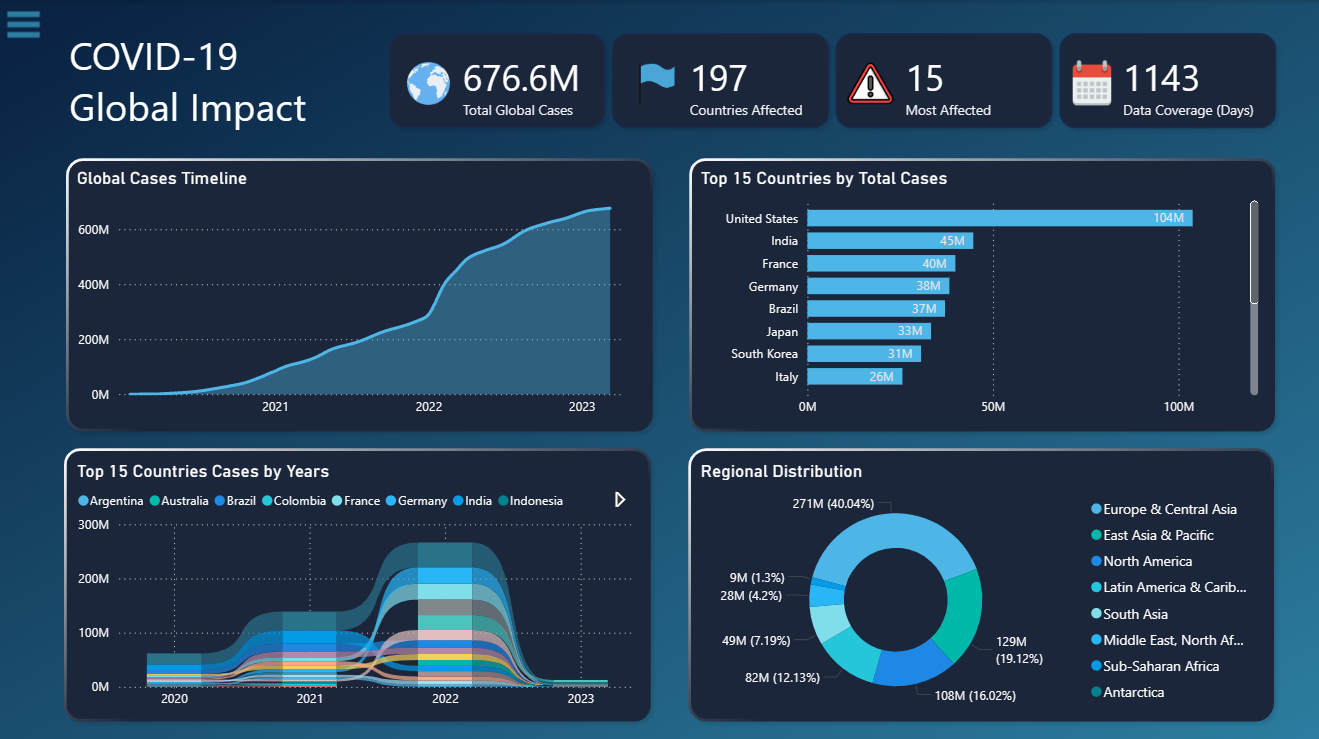

The dashboard page shown, as its layout file describes it:
{"tool":"powerbi","page":{"name":"Home","canvas":[1280,720],"ordinal":0},"visuals":[{"type":"lineChart","title":"Global Cases Timeline","fields":{"Category":["DimDate.Date"],"Y":["_Measures.Cumulative Cases"]},"box":[70.2,163.1,550.3,249.9],"z":0},{"type":"textbox","box":[63.1,22.7,255,109.8],"z":1000},{"type":"cardVisual","fields":{"Data":["_Measures.Daily New Cases","_Measures.Countries Affected","_Measures.High-Impact Countries","_Measures.Data Coverage"]},"box":[378.7,34.1,857,89.6],"z":2000},{"type":"clusteredBarChart","title":"Top 15 Countries by Total Cases","fields":{"Category":["DimCountry.Country"],"Y":["_Measures.Daily New Cases"]},"box":[675.3,163.1,550.3,249.9],"z":3000},{"type":"donutChart","title":"Regional Distribution","fields":{"Category":["DimCountry.Region"],"Y":["_Measures.Total Cases by Region"]},"box":[675.3,446.8,550.3,249.9],"z":4000},{"type":"ribbonChart","title":"Top 15 Countries Cases by Years","fields":{"Series":["DimCountry.Country"],"Category":["DimDate.Year"],"Y":["_Measures.Daily New Cases"]},"box":[70.2,447.1,550.3,249.9],"z":5000},{"type":"actionButton","box":[0,0,50.5,48],"z":6000}]}

Visuals, with their boxes in screenshot pixels (x1, y1, x2, y2), scaled from the page's 1280x720 canvas onto the 1319x739 screenshot:
"Global Cases Timeline" lineChart: select_region(72, 167, 639, 424)
textbox: select_region(65, 23, 328, 136)
cardVisual - _Measures.Daily New Cases x _Measures.Countries Affected: select_region(390, 35, 1273, 127)
"Top 15 Countries by Total Cases" clusteredBarChart: select_region(696, 167, 1263, 424)
"Regional Distribution" donutChart: select_region(696, 459, 1263, 715)
"Top 15 Countries Cases by Years" ribbonChart: select_region(72, 459, 639, 715)
actionButton: select_region(0, 0, 52, 49)
